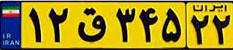character: (73, 7, 110, 44), (46, 3, 73, 45), (111, 5, 138, 47), (160, 3, 185, 46), (137, 3, 160, 46), (26, 3, 46, 48), (188, 11, 211, 46), (212, 12, 233, 47)
